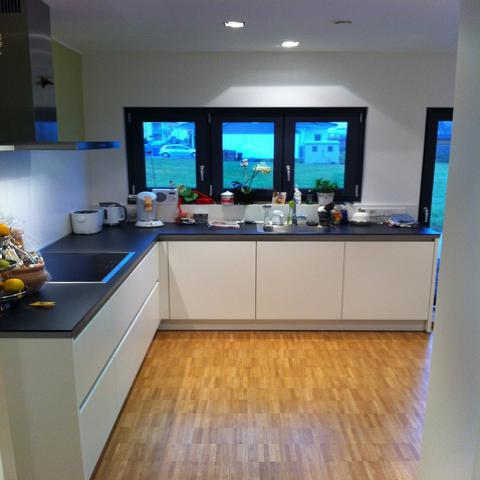car: (158, 145, 196, 158)
